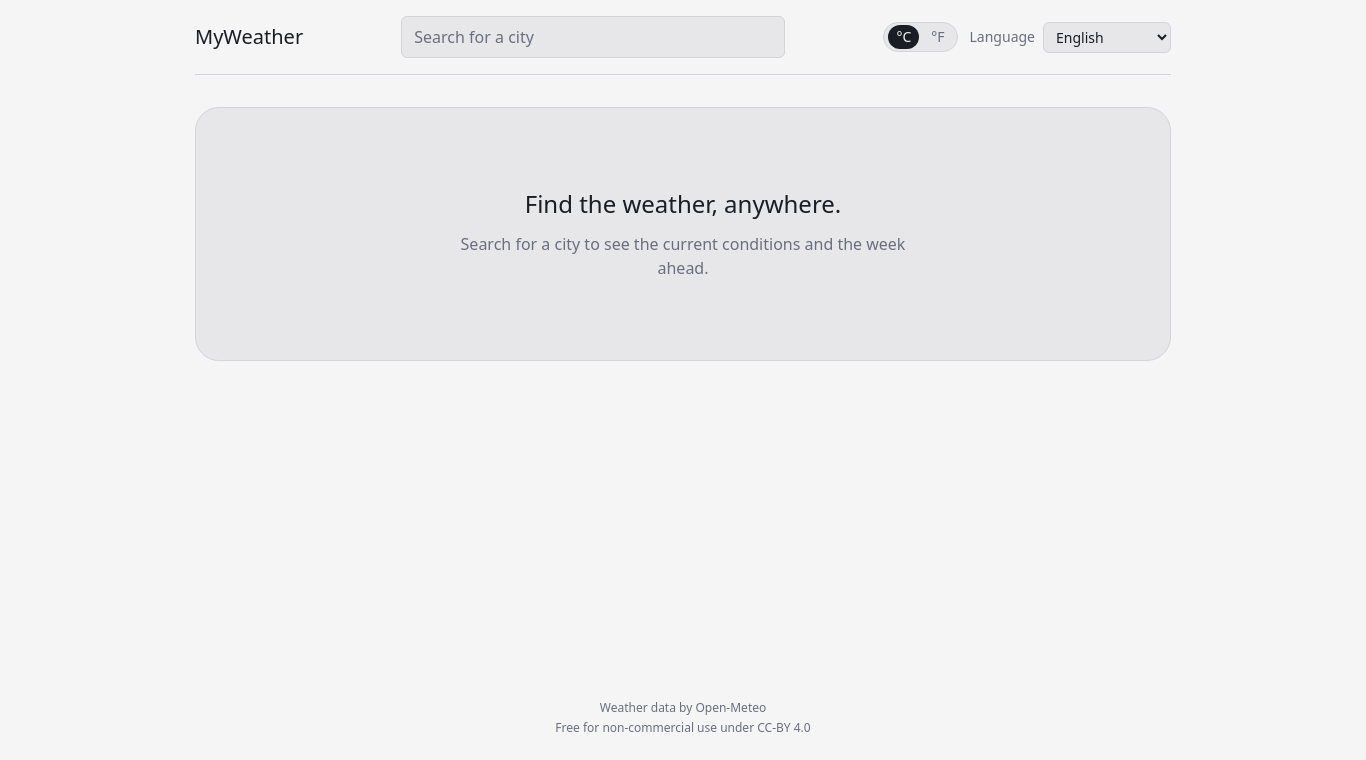
Test case: <App /> › search → hero → recents flow › renders the hero and recent strip after the user selects a city
The image size is (1366, 760).
In the dropdown labelled "Search for a city": (593,37) [401,16,785,58], type "oslo"
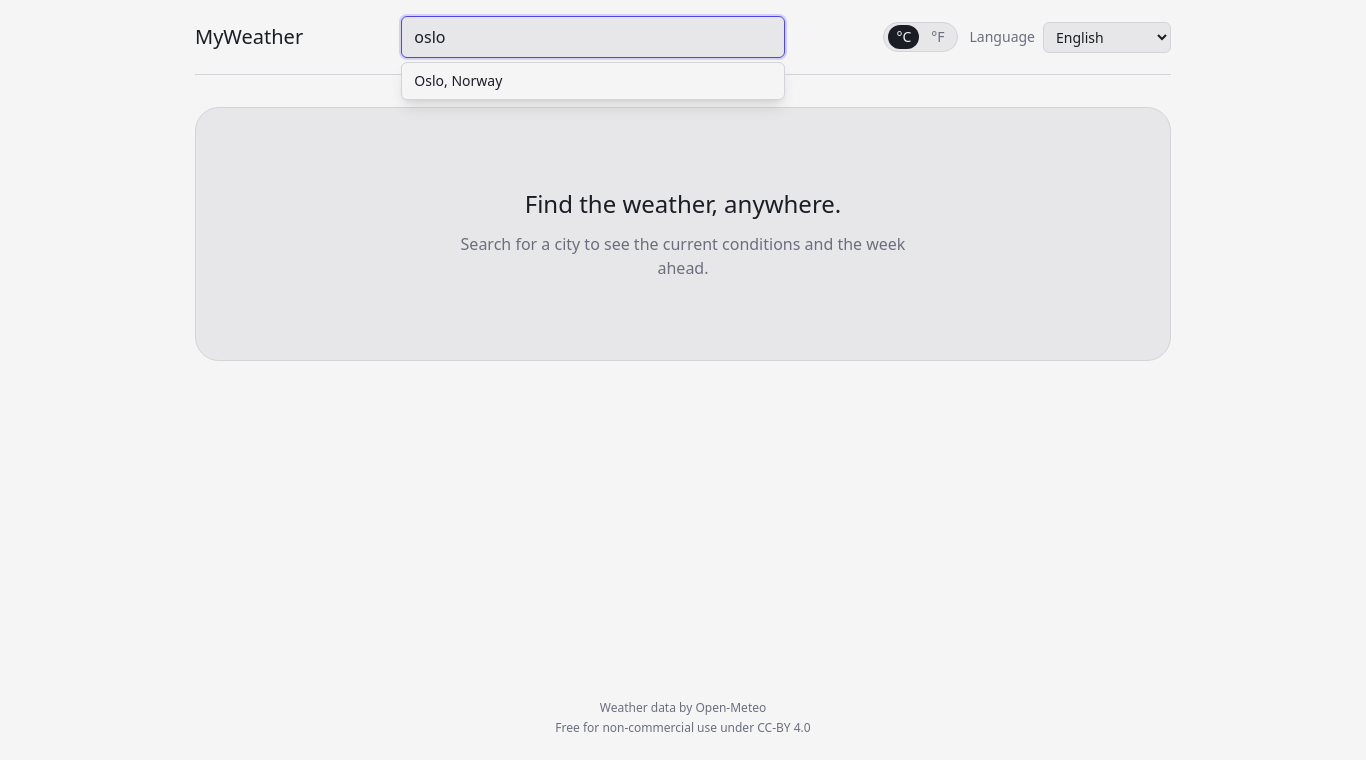
Click the option "Oslo, Norway": (458,80) [414,71,502,90]
(page scrolled)
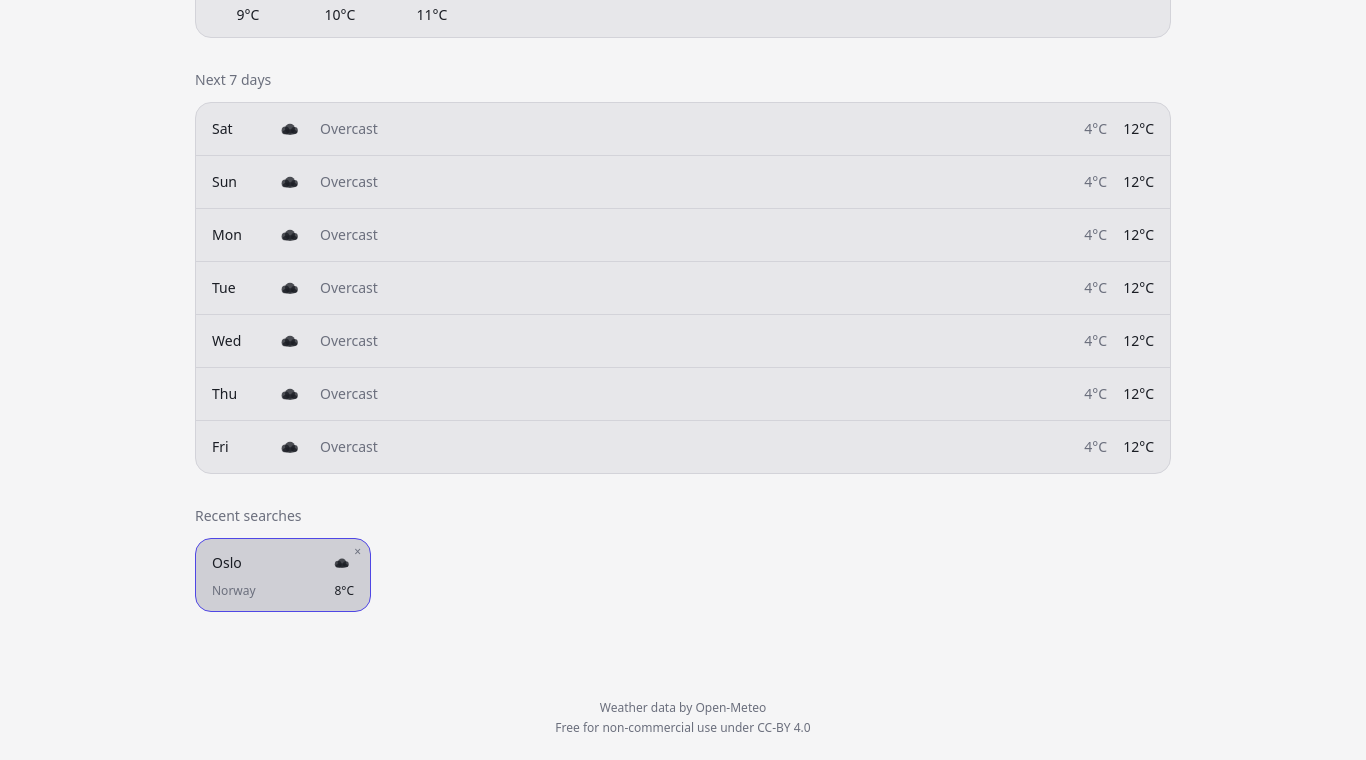
Expected: the heading "Recent searches" is shown, [195,506,302,525]
